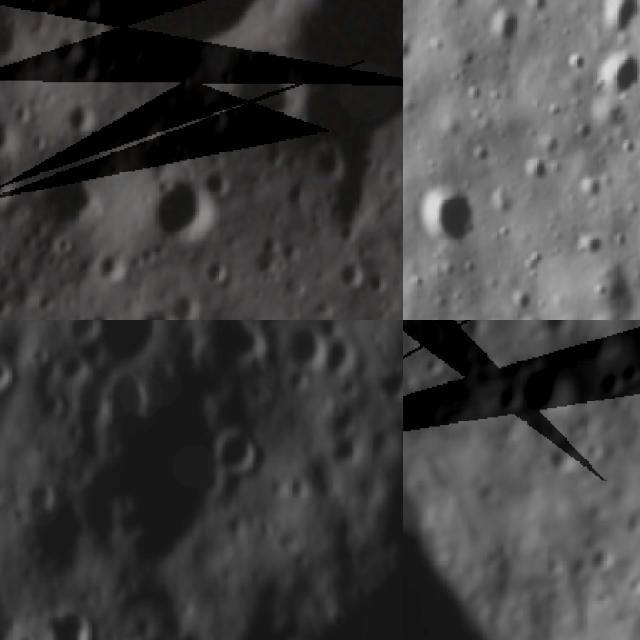crater: (410, 174, 480, 254), (151, 180, 225, 248), (46, 163, 116, 221), (84, 320, 168, 368), (586, 43, 640, 117), (199, 320, 270, 370), (520, 366, 586, 416), (209, 420, 264, 478), (271, 321, 320, 372), (586, 0, 640, 41), (44, 602, 97, 640), (12, 476, 64, 507), (320, 335, 357, 377), (322, 432, 360, 469), (201, 167, 237, 204), (53, 34, 89, 68), (170, 287, 205, 320), (337, 256, 370, 290), (375, 363, 403, 402), (65, 105, 97, 138), (204, 256, 235, 285), (0, 24, 22, 63), (58, 320, 100, 338), (0, 171, 20, 208), (583, 435, 611, 461), (421, 357, 449, 381), (135, 307, 186, 320), (168, 627, 219, 640), (548, 451, 574, 476), (0, 118, 17, 155), (222, 97, 248, 120), (624, 500, 640, 537), (0, 353, 15, 392), (531, 320, 574, 333), (617, 361, 640, 384), (172, 70, 195, 91), (493, 541, 517, 561), (37, 292, 59, 312), (602, 372, 621, 394), (596, 589, 614, 610), (626, 578, 640, 599), (15, 627, 37, 640), (18, 0, 42, 9)
